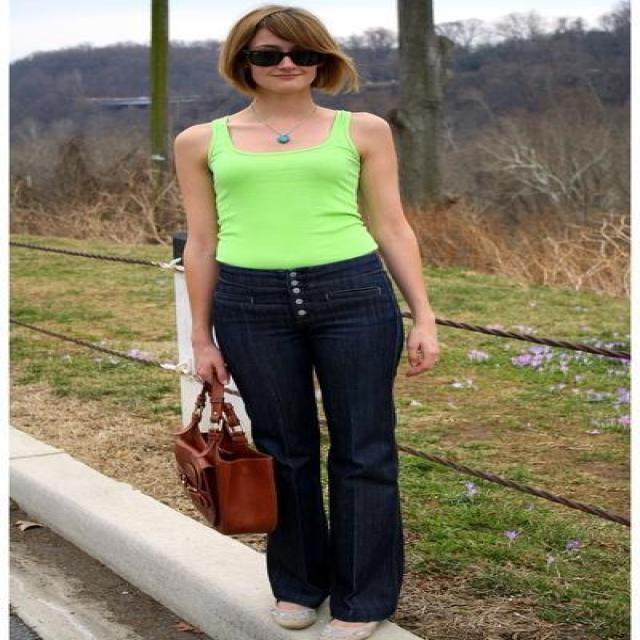pants: (206, 243, 406, 622)
shirt: (208, 129, 378, 268)
